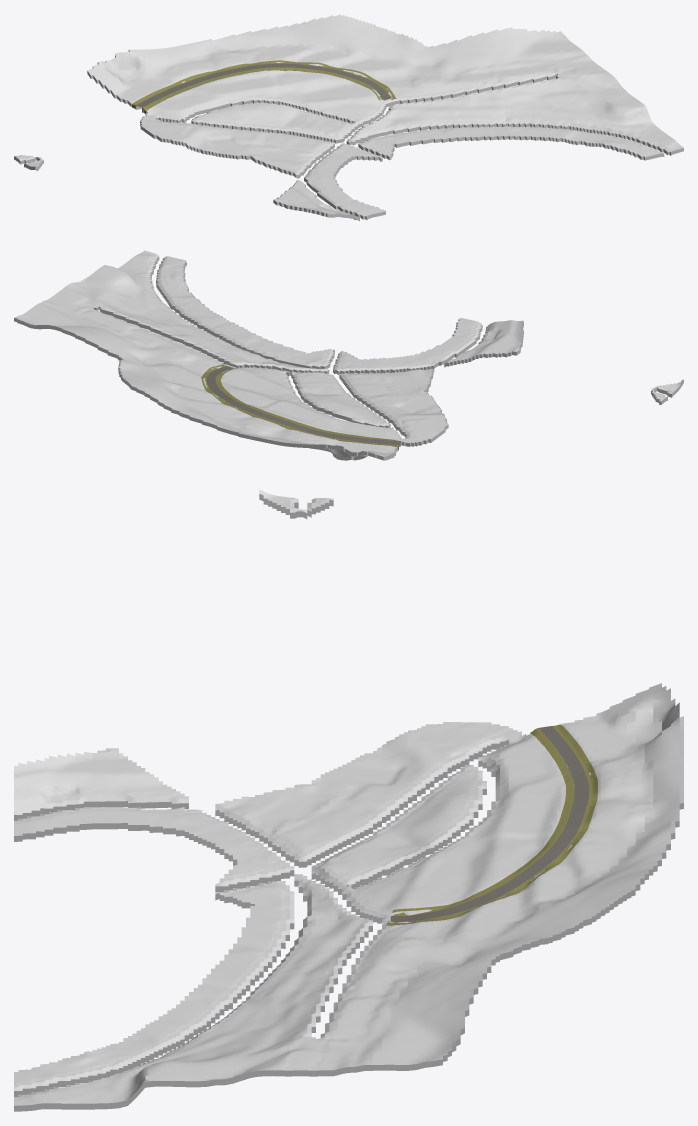
File: conz_111.glb
The picture shows the model from 3 angles, top to bottom: view 1: azimuth 30°, elevation 25°; view 2: azimuth 150°, elevation 25°; view 3: azimuth 270°, elevation 25°; orthographic projection. The views are drawn at different scales.
Parts seen in each view (by area): view 1: terrain111, road111, verge111L, verge111R; view 2: terrain111, road111, verge111L, verge111R; view 3: terrain111, road111, verge111L, verge111R.
Part boxes in pixels (x1=…): terrain111: x1=14, y1=14, x2=683, y2=221; road111: x1=136, y1=63, x2=390, y2=107; verge111L: x1=132, y1=60, x2=396, y2=108; verge111R: x1=142, y1=67, x2=382, y2=113; terrain111: x1=14, y1=250, x2=683, y2=460; road111: x1=206, y1=366, x2=400, y2=445; verge111L: x1=201, y1=364, x2=398, y2=450; verge111R: x1=215, y1=368, x2=401, y2=444; terrain111: x1=14, y1=489, x2=683, y2=1111; road111: x1=388, y1=726, x2=589, y2=921; verge111L: x1=386, y1=724, x2=597, y2=925; verge111R: x1=392, y1=728, x2=574, y2=915.
Bounding box in the file's own units: 532 × 66.82 × 306.
